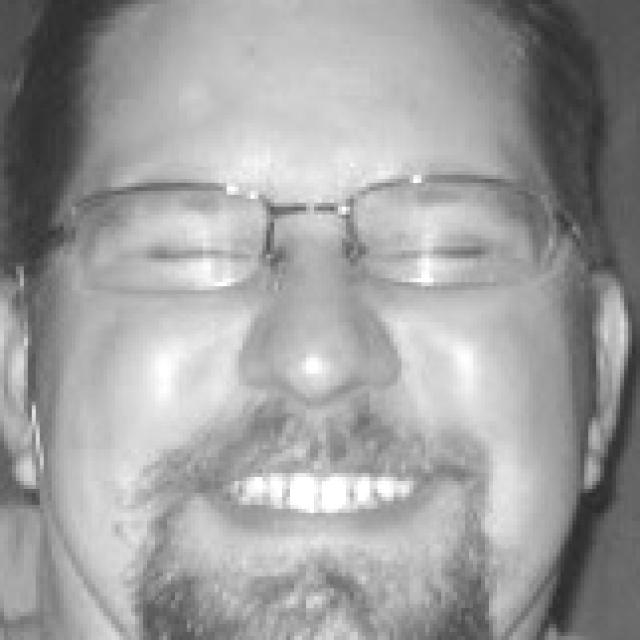real: (42, 18, 586, 624), (106, 172, 526, 322)
